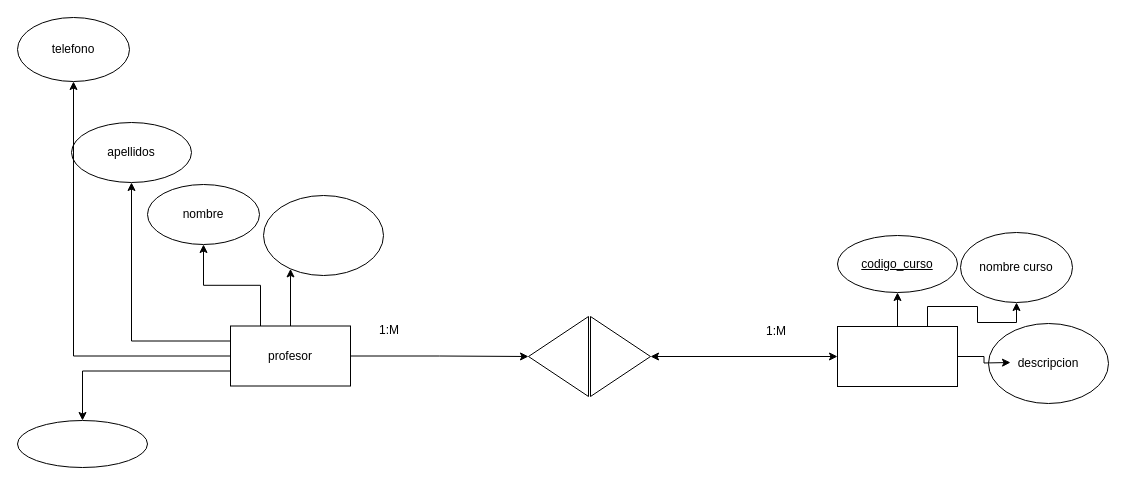
Image size: 1126x485. Some labels were removed from this diagram. Each missing label, with the centre of its shape:
"curso" belongs at [897,356].
"dni" belongs at [82,444].
"id_profesor" belongs at [323,235].
